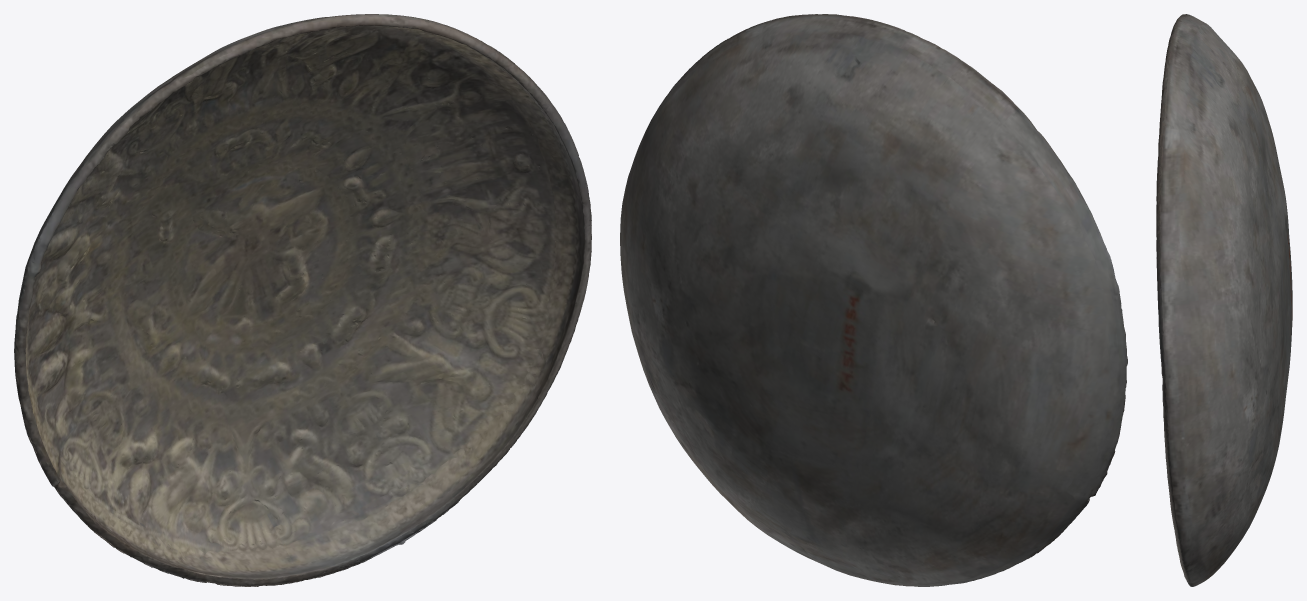
File: location-model-05.glb
3 renders of one model, left to right at view 1: azimuth 30°, elevation 25°; view 2: azimuth 150°, elevation 25°; view 3: azimuth 270°, elevation 25°, orthographic. The views are drawn at different scales.
Visible parts, largest first — view 1: default_n3d; view 2: default_n3d; view 3: default_n3d.
Part boxes in pixels (x1,y1,x2,y2): default_n3d: [14, 14, 591, 586]; default_n3d: [620, 14, 1127, 586]; default_n3d: [1156, 14, 1292, 586].
Bounding box in the file's own units: 0.1797 × 0.1779 × 0.0427.
1 material, 1 textured.
